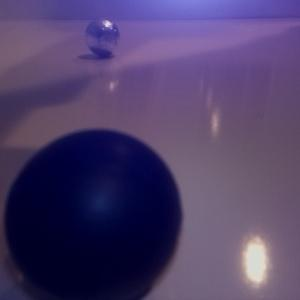alive_ball: (85, 19, 119, 57)
dead_ball: (5, 128, 182, 299)
